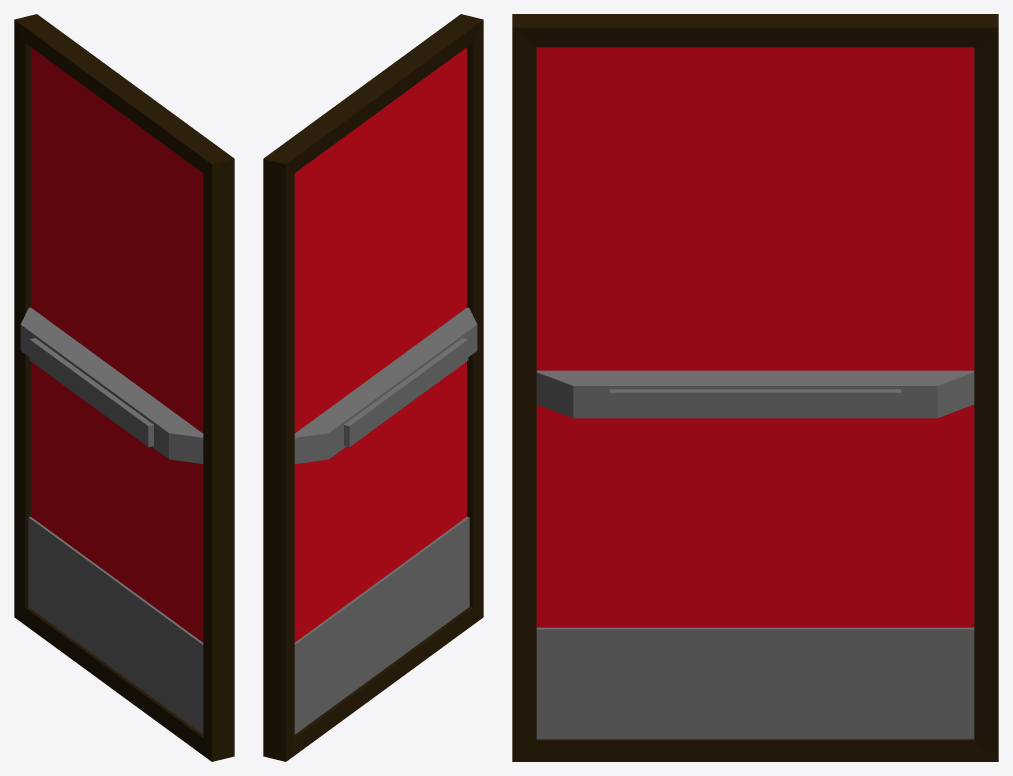
File: Door.fbx
The picture shows the model from 3 angles, left to right: view 1: azimuth 30°, elevation 25°; view 2: azimuth 150°, elevation 25°; view 3: azimuth 270°, elevation 25°; orthographic projection. The views are drawn at different scales.
Visible parts, largest first — view 1: Cube; view 2: Cube; view 3: Cube.
Part boxes in pixels (box(x1,y1,x2,y2)): Cube: box(14, 14, 234, 761); Cube: box(263, 14, 483, 761); Cube: box(512, 14, 998, 761).
Bounding box in the file's own units: 62.5 × 500 × 300.
